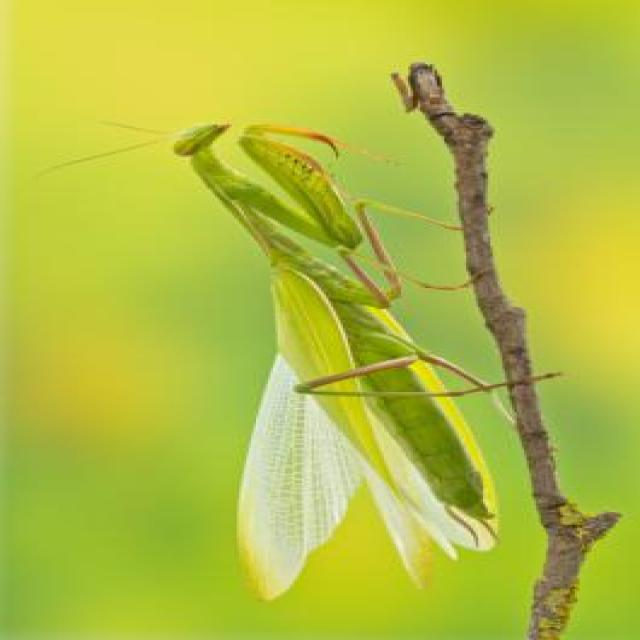antennae: (43, 138, 179, 179), (92, 113, 177, 134)
body: (168, 119, 496, 509)
insect: (27, 112, 576, 599)
legs: (232, 128, 394, 244), (295, 327, 561, 395), (352, 200, 496, 304), (330, 246, 497, 313), (385, 346, 559, 385)
mouthpart: (217, 121, 241, 141)
wings: (244, 348, 360, 590), (360, 407, 495, 585)
